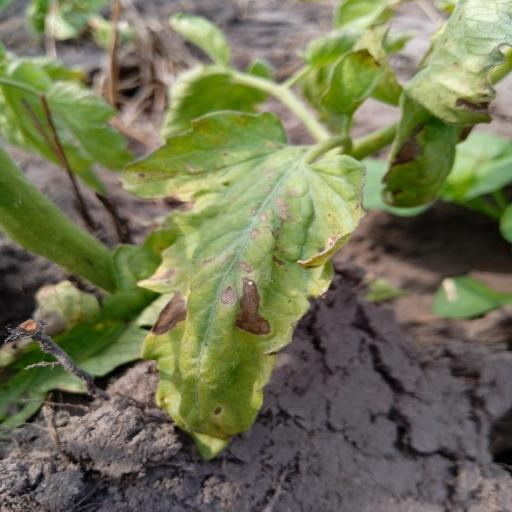Tomato_Brown_Spots: (106, 106, 371, 461)
